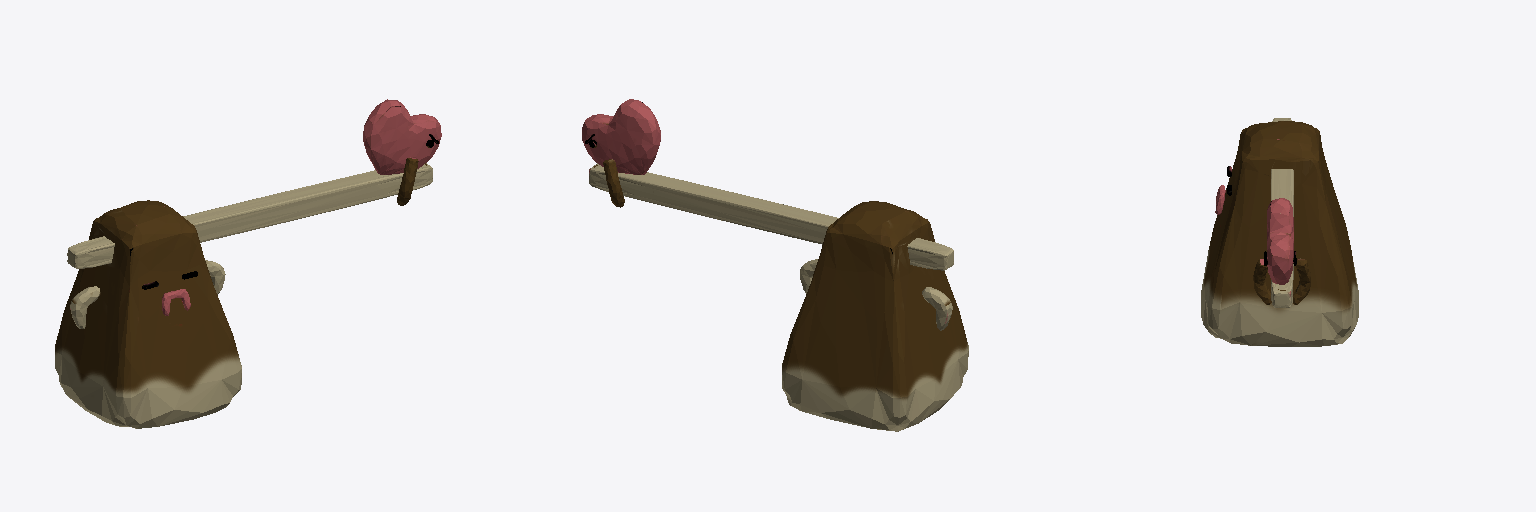
3 renders of one model, left to right at view 1: azimuth 30°, elevation 25°; view 2: azimuth 150°, elevation 25°; view 3: azimuth 270°, elevation 25°, orthographic.
Visible parts, largest first — view 1: Cube; view 2: Cube; view 3: Cube.
Part boxes in pixels (x1,y1,x2,y2): Cube: (55,99,441,428); Cube: (582,99,968,431); Cube: (1201,118,1358,346).
Bounding box in the file's own units: 4.51 × 2.87 × 1.68.
Materials: 1 (1 with a texture image).